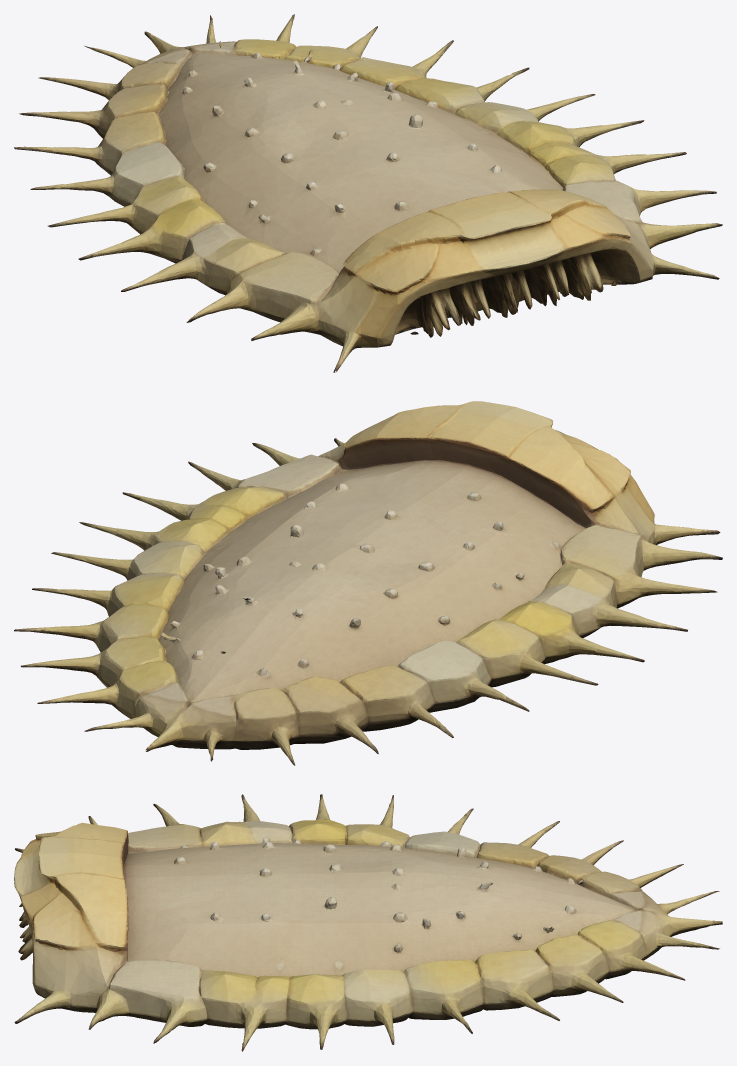
The picture shows the model from 3 angles, top to bottom: view 1: azimuth 30°, elevation 25°; view 2: azimuth 150°, elevation 25°; view 3: azimuth 270°, elevation 25°; orthographic projection. The views are drawn at different scales.
Visible parts, largest first — view 1: world; view 2: world; view 3: world.
Part boxes in pixels (x1,y1,x2,y2): world: [14, 14, 722, 372]; world: [14, 401, 722, 765]; world: [14, 794, 722, 1051].
Bounding box in the file's own units: 0.0257 × 0.00437 × 0.03.
Materials: 1 (1 with a texture image).
